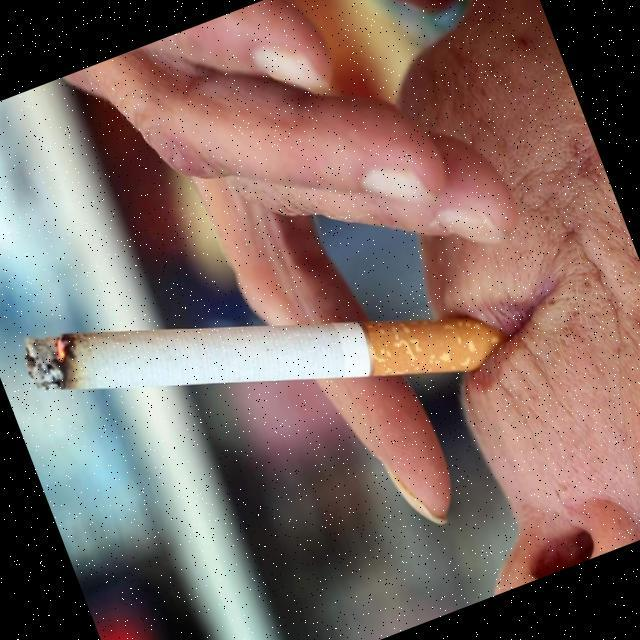cigarette: (12, 206, 426, 508)
